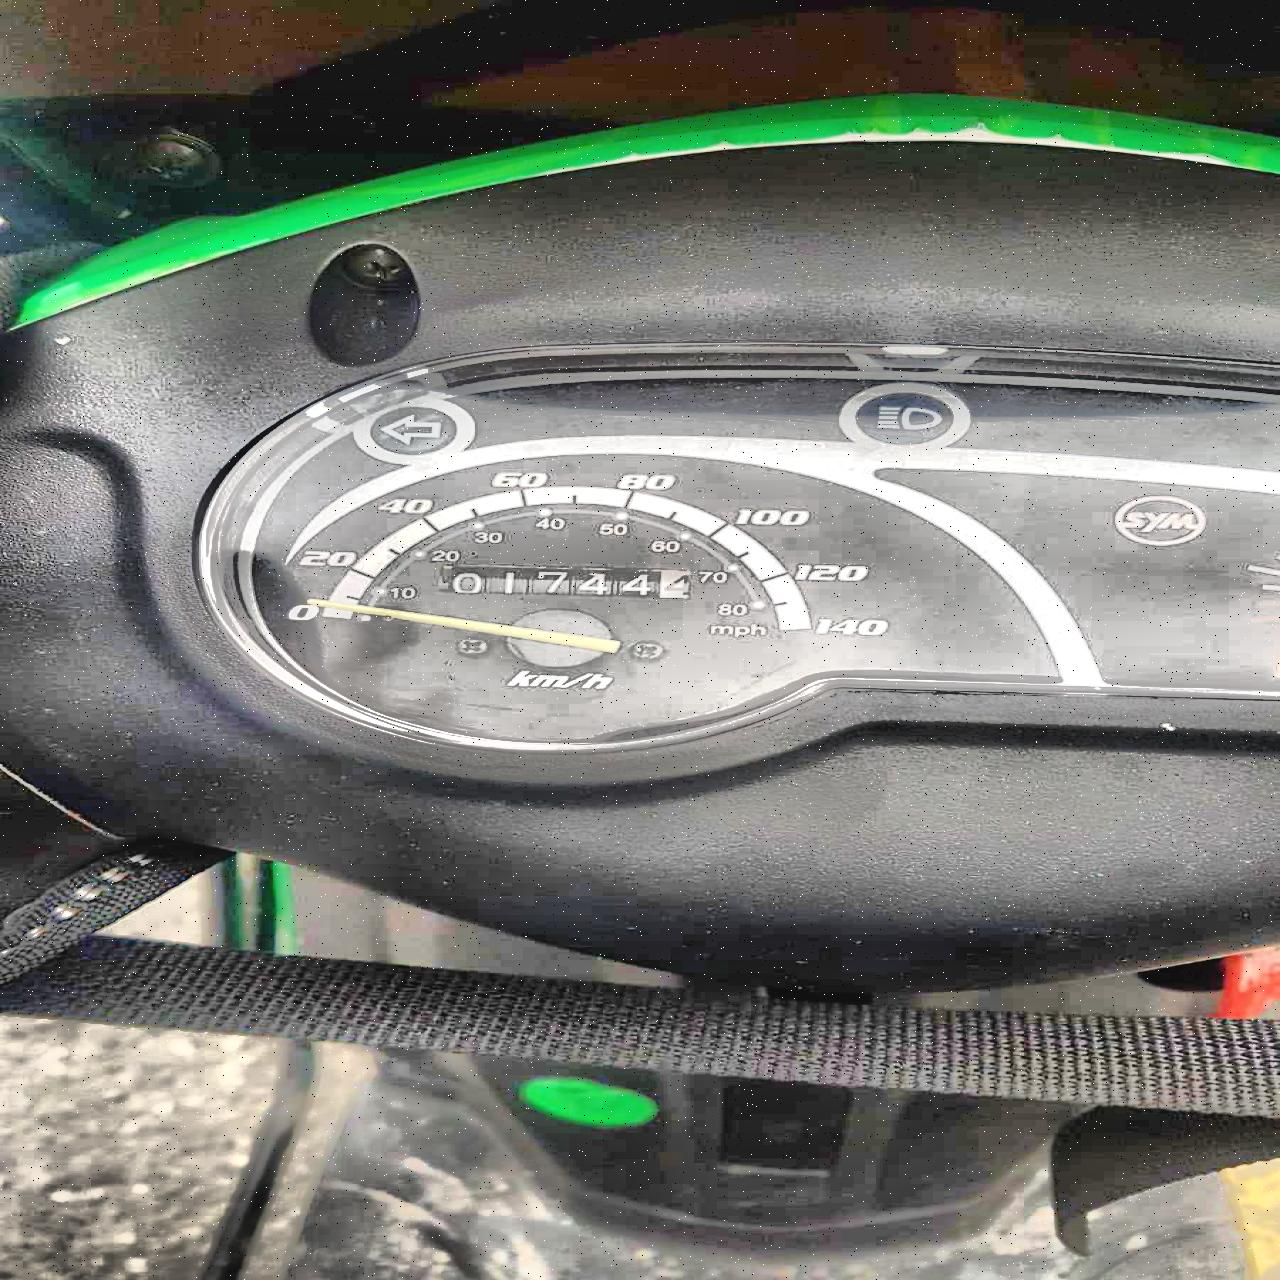0: (447, 567, 482, 598)
1: (496, 568, 519, 601)
4: (661, 572, 694, 602), (574, 570, 611, 597), (620, 572, 652, 598)
7: (531, 566, 566, 595)
odometer: (431, 561, 700, 606)
